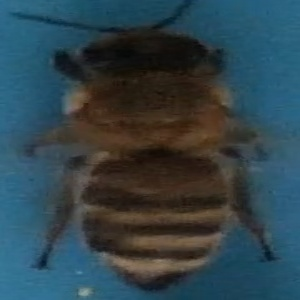bee: (12, 18, 278, 295)
